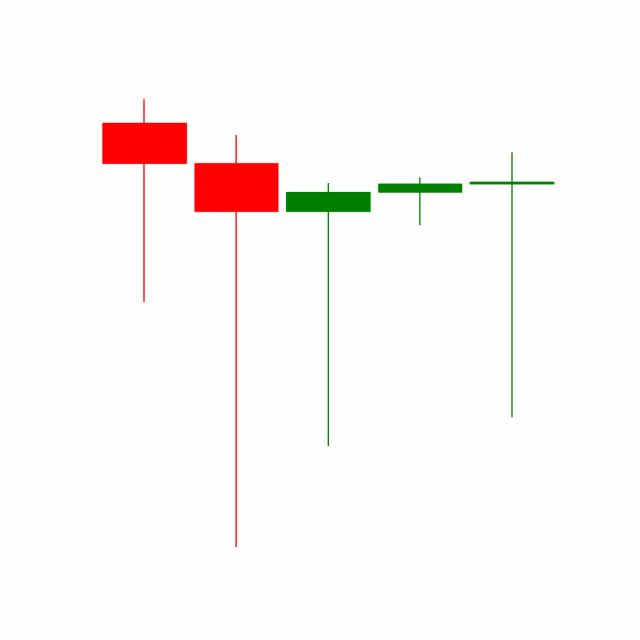Dragonfly Doji: (373, 175, 467, 226)
